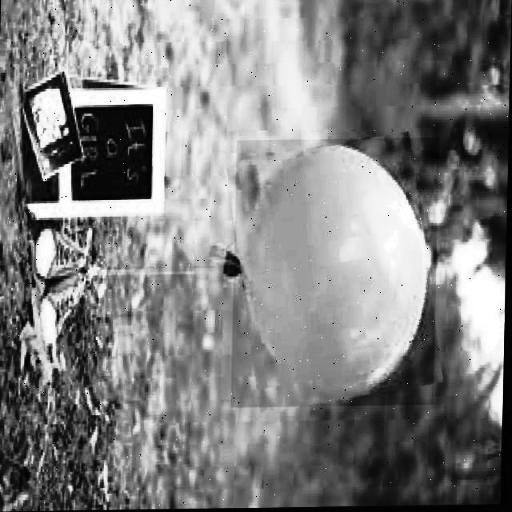balloon: (232, 139, 439, 408)
